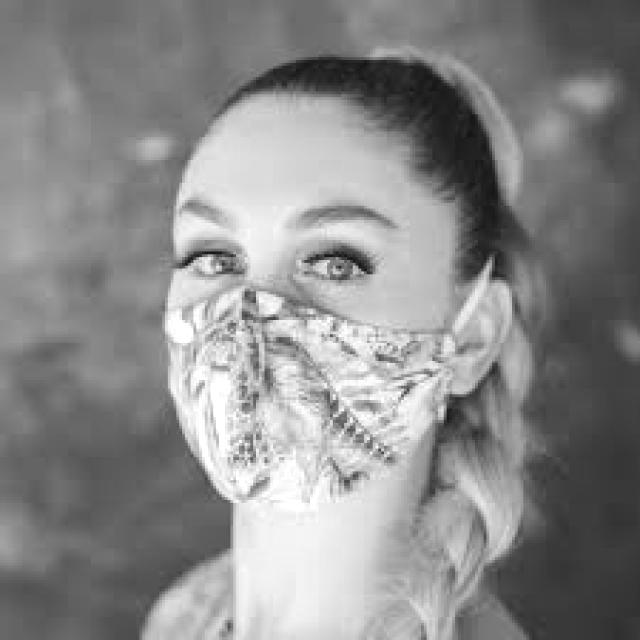fake: (155, 286, 457, 515)
real: (174, 96, 455, 523)
